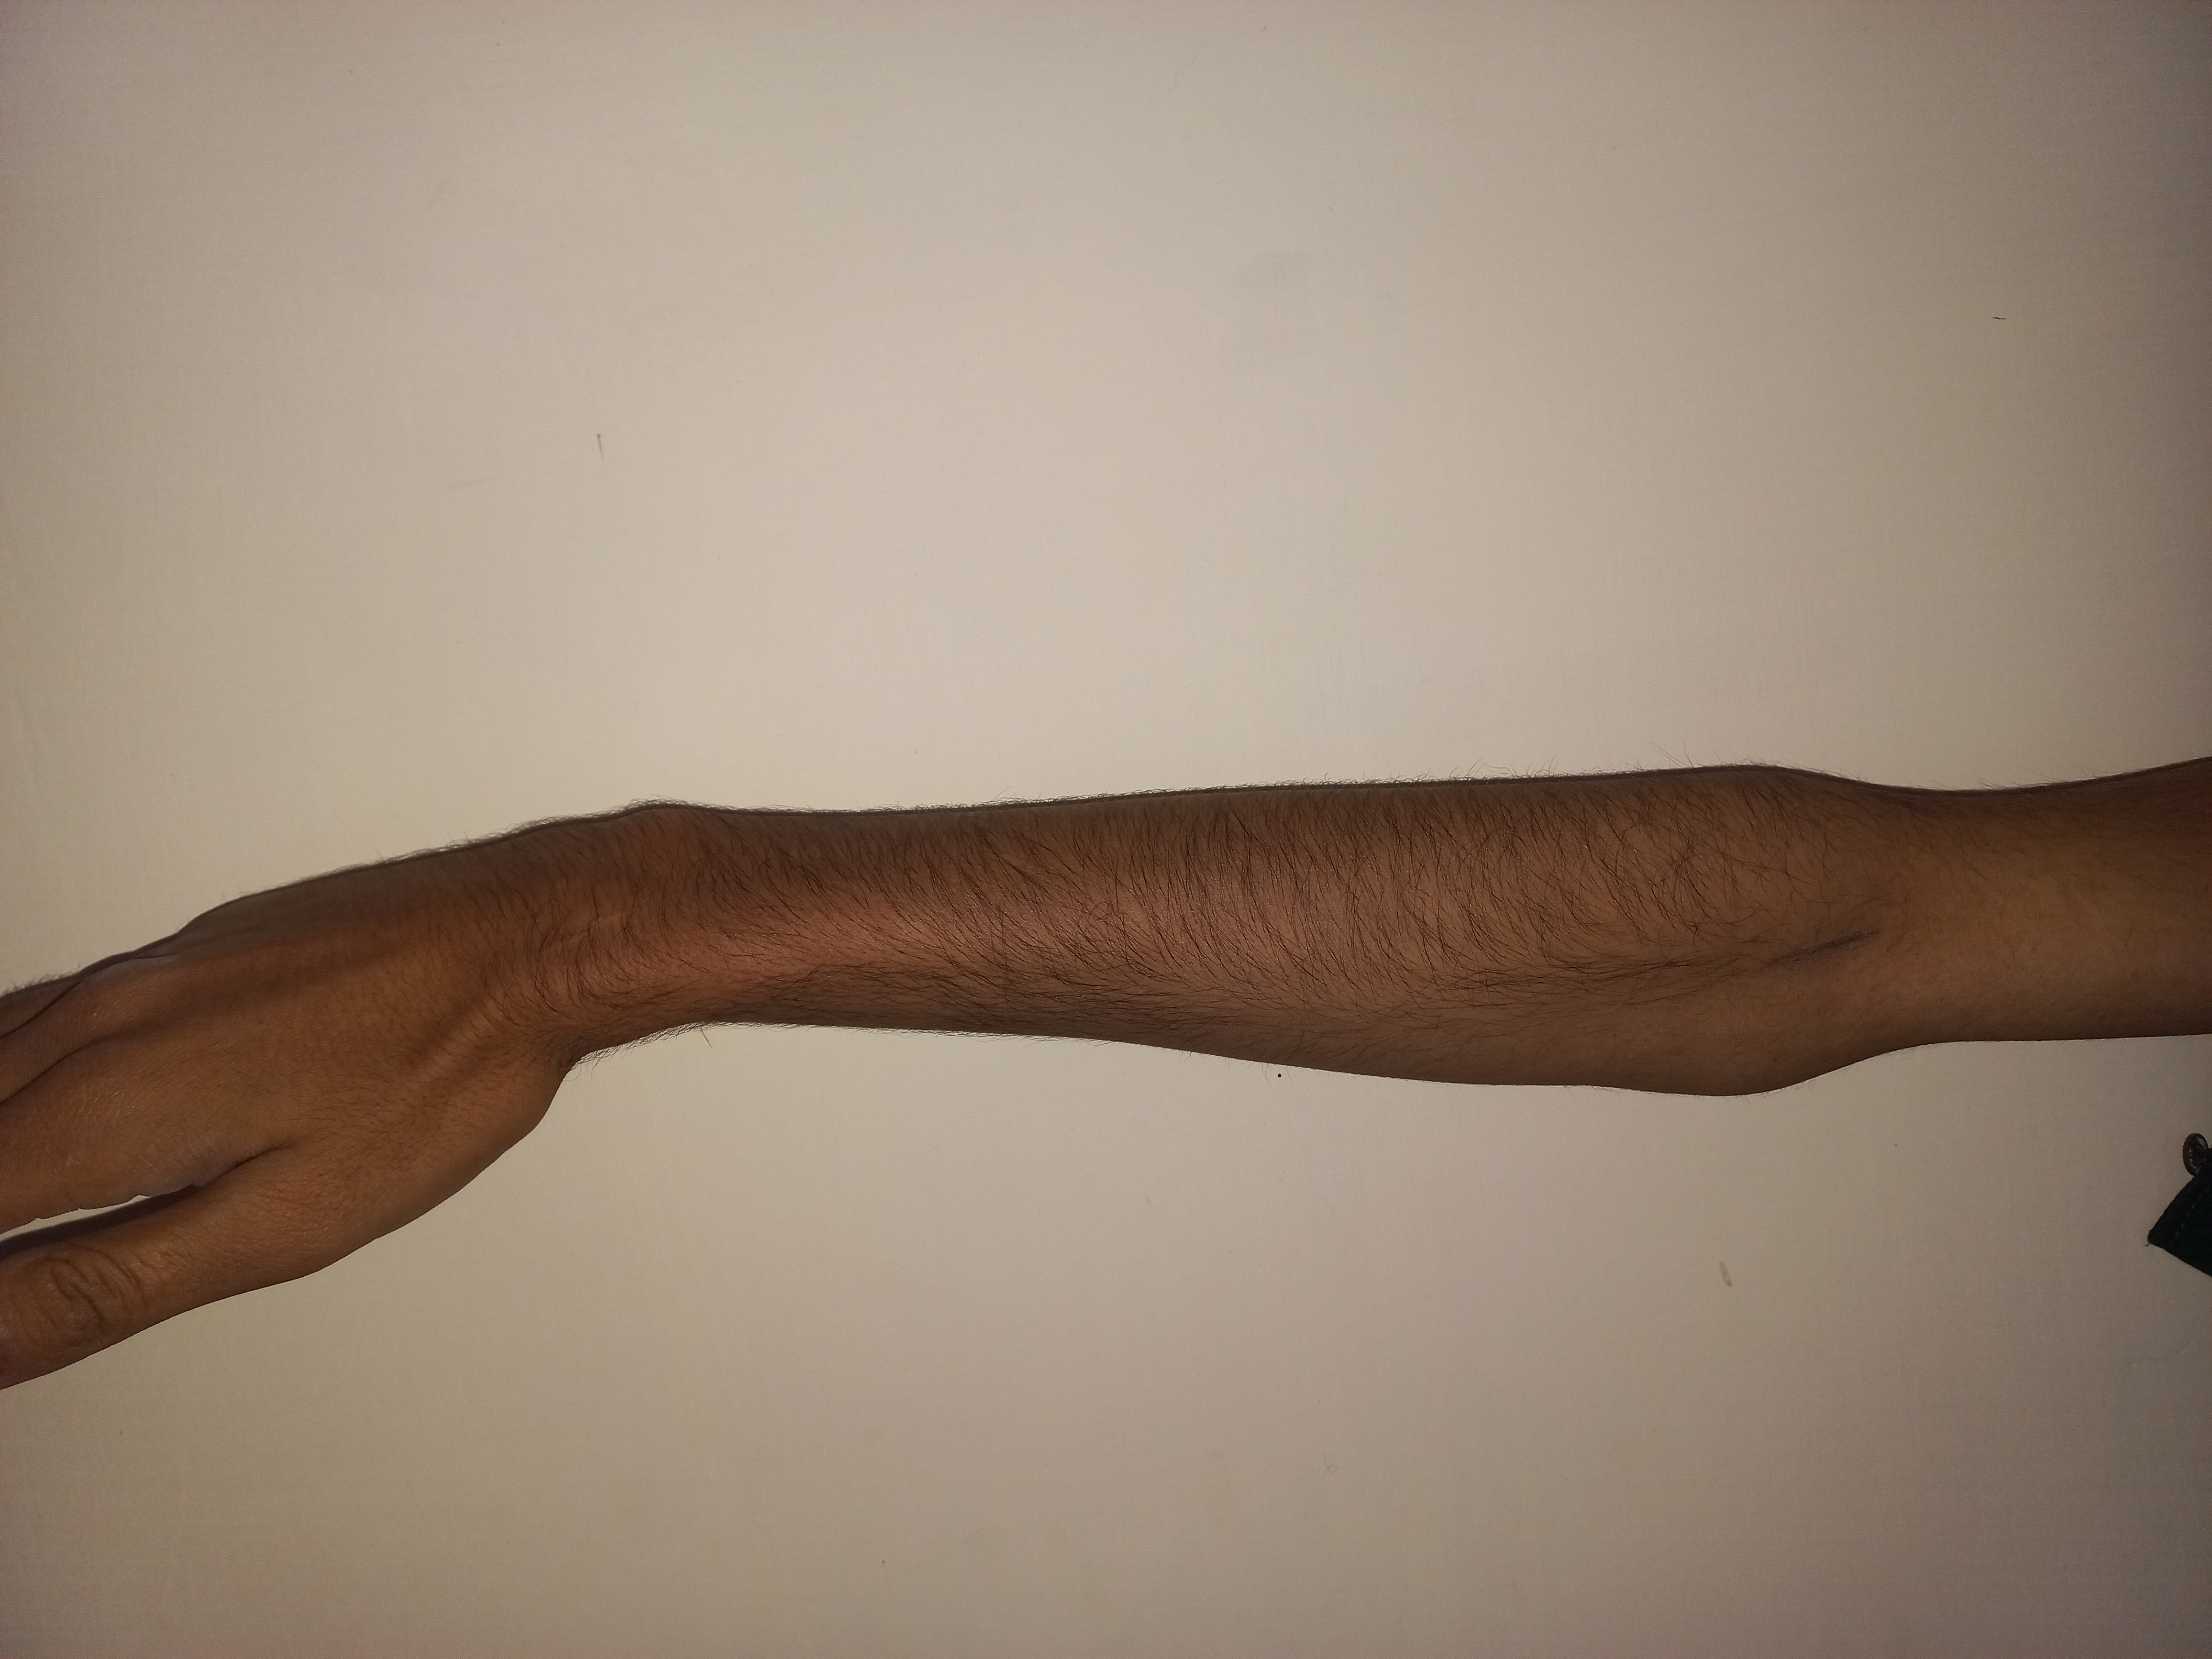vein: (1749, 934, 1921, 972)
